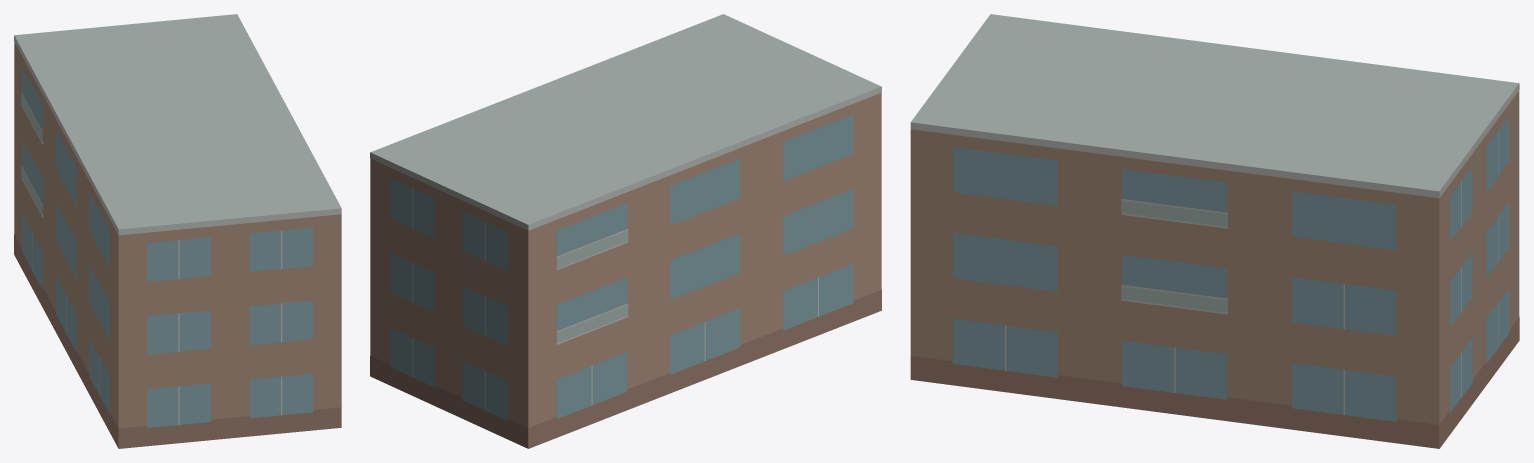
File: survey-upis-32722552.glb
3 renders of one model, left to right at view 1: azimuth 30°, elevation 25°; view 2: azimuth 150°, elevation 25°; view 3: azimuth 270°, elevation 25°, orthographic. The views are drawn at different scales.
Visible parts, largest first — view 1: survey-upis-32722552.tmp; view 2: survey-upis-32722552.tmp; view 3: survey-upis-32722552.tmp.
Part boxes in pixels (x1,y1,x2,y2): survey-upis-32722552.tmp: (14,14,341,448); survey-upis-32722552.tmp: (370,14,881,448); survey-upis-32722552.tmp: (910,14,1519,448).
Bounding box in the file's own units: 13.53 × 9.15 × 19.62.
